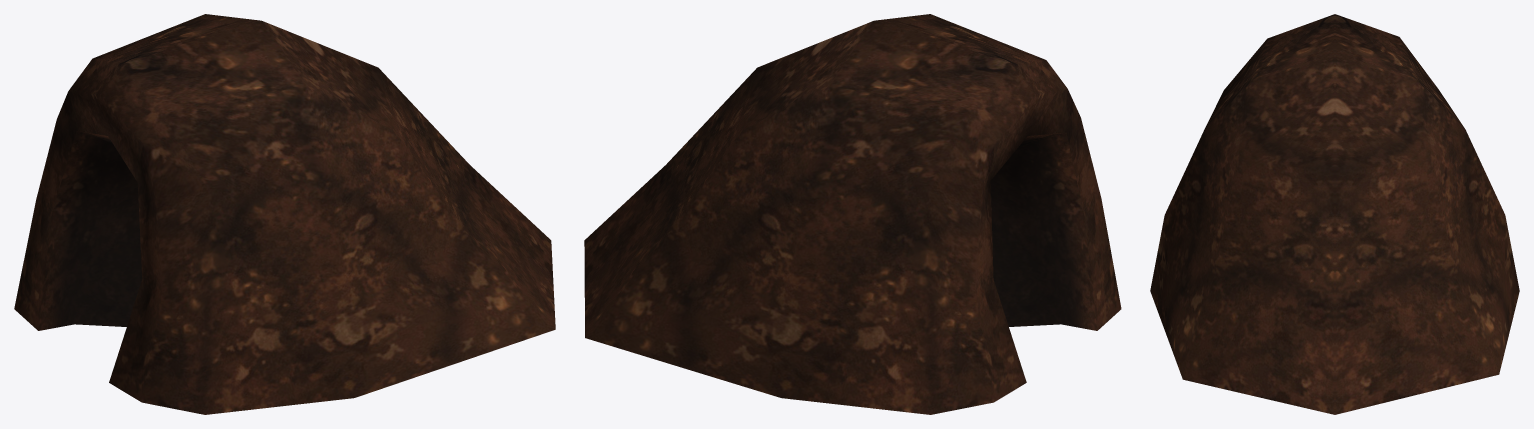
The model's file is mine.FBX.
The picture shows the model from 3 angles, left to right: view 1: azimuth 30°, elevation 25°; view 2: azimuth 150°, elevation 25°; view 3: azimuth 270°, elevation 25°; orthographic projection. The views are drawn at different scales.
Visible parts, largest first — view 1: Mine; view 2: Mine; view 3: Mine.
Part boxes in pixels (left/top/right/bottom): Mine: left=14, top=14, right=555, bottom=414; Mine: left=584, top=14, right=1121, bottom=414; Mine: left=1150, top=14, right=1519, bottom=414.
Bounding box in the file's own units: 105 × 62.34 × 85.69.
